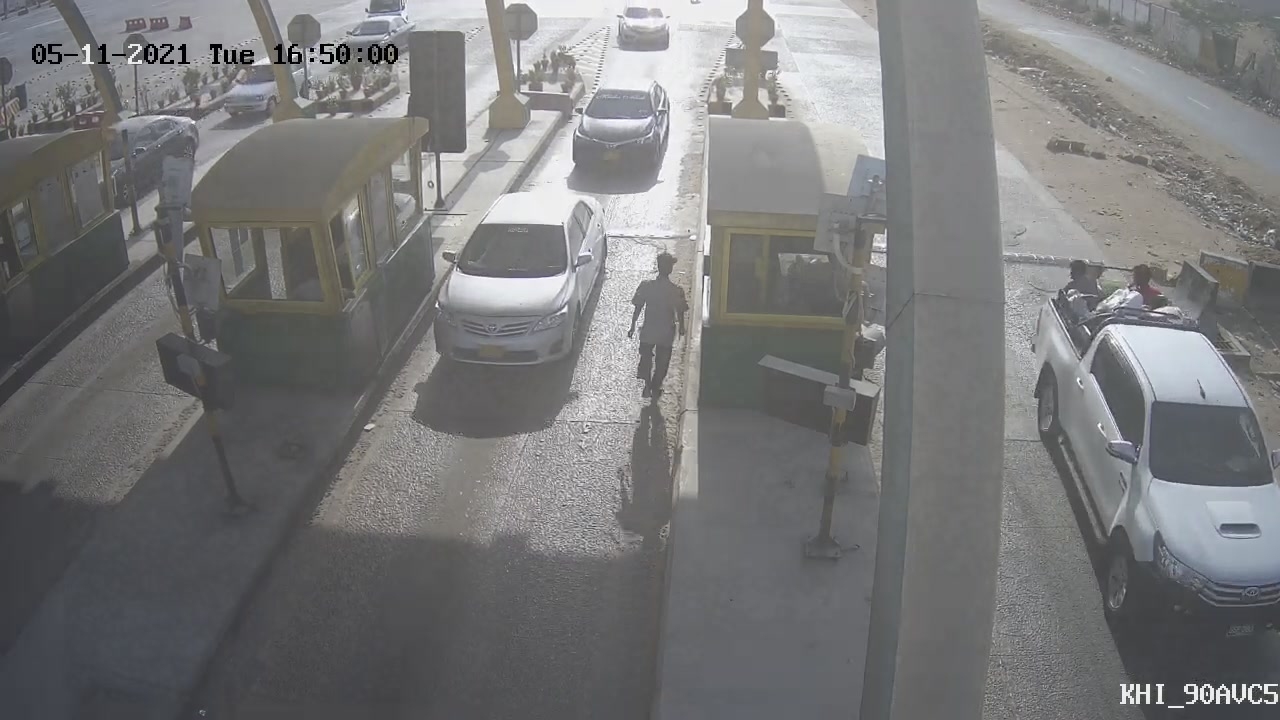F1: (405, 178, 635, 396), (548, 66, 687, 189)
